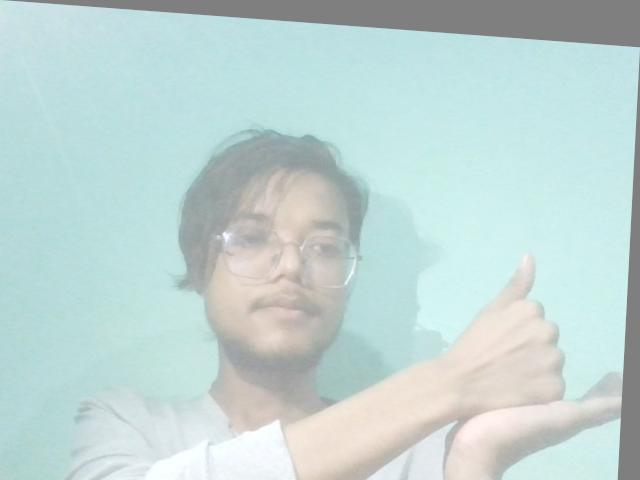help: (401, 224, 631, 469)
